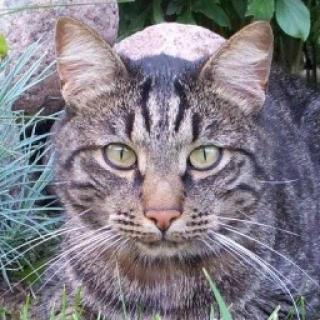cat: (49, 13, 282, 263)
nose: (136, 170, 190, 236)
